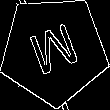M_S: (25, 18, 84, 82)
